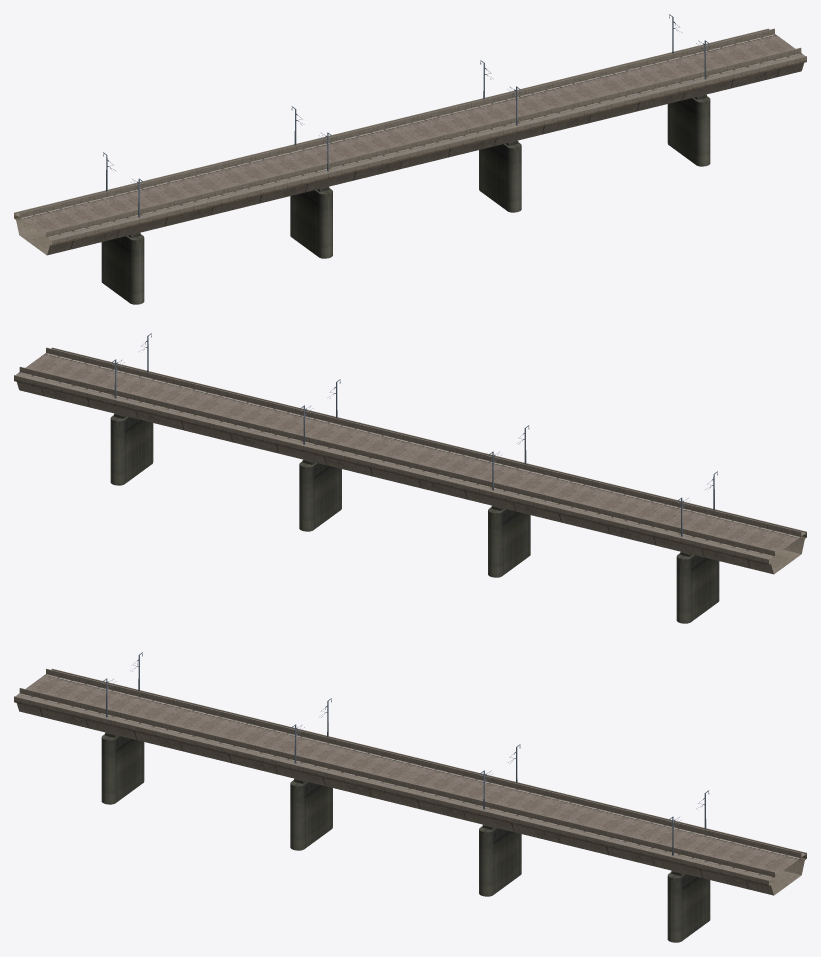
File: Qiao_A.fbx
3 renders of one model, top to bottom at view 1: azimuth 30°, elevation 25°; view 2: azimuth 150°, elevation 25°; view 3: azimuth 330°, elevation 25°, orthographic.
Visible parts, largest first — view 1: Qiaoti, Qiaodun, Tiejia; view 2: Qiaoti, Qiaodun, Tiejia; view 3: Qiaoti, Qiaodun, Tiejia.
Part boxes in pixels (<box>): Qiaoti: <box>14,28,806,255</box>; Qiaodun: <box>101,94,710,304</box>; Tiejia: <box>103,14,709,217</box>; Qiaoti: <box>14,347,806,574</box>; Qiaodun: <box>110,413,719,623</box>; Tiejia: <box>111,333,717,536</box>; Qiaoti: <box>14,668,806,895</box>; Qiaodun: <box>101,732,710,942</box>; Tiejia: <box>103,652,709,855</box>.
Size of the model in its own units: 16 by 2.53 by 1.46.
